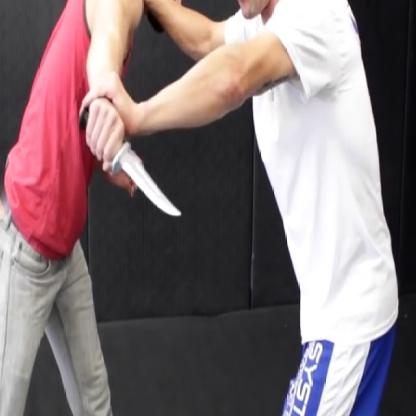knife: (72, 98, 188, 235)
